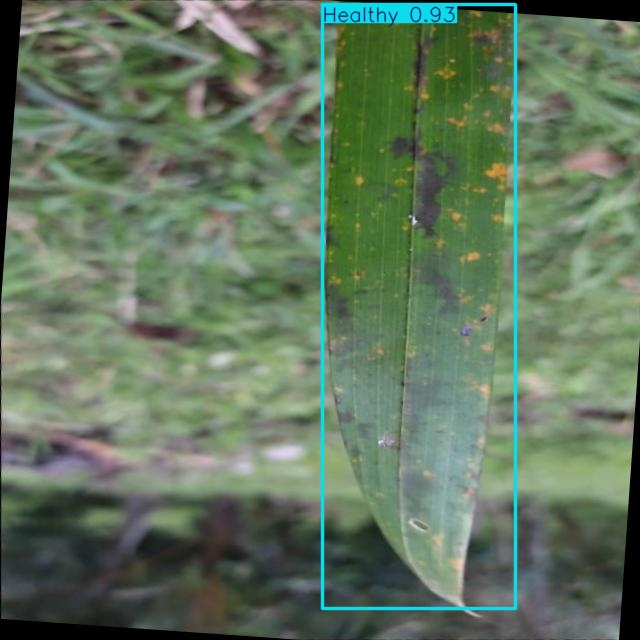Healthy: (322, 4, 515, 609)
